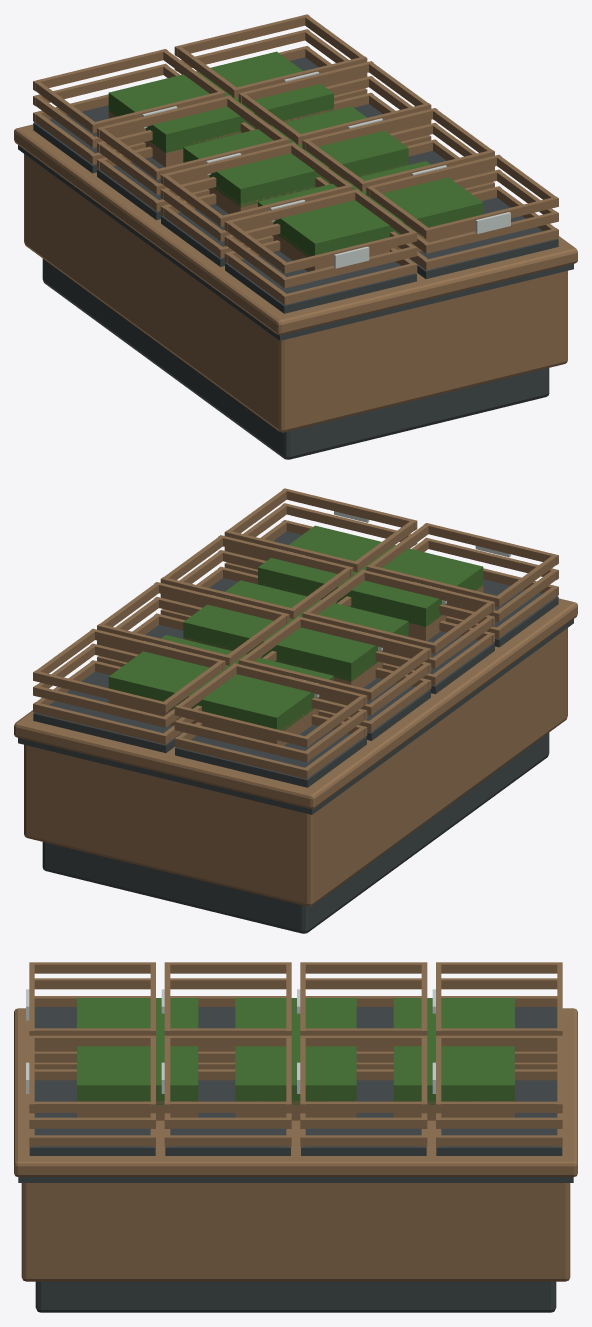
Rendered from vegetables-l0.glb.
3 views of the same model, one above another, from view 1: azimuth 30°, elevation 25°; view 2: azimuth 150°, elevation 25°; view 3: azimuth 270°, elevation 25° (orthographic). The views are drawn at different scales.
Visible parts, largest first — view 1: vegetables-l0_fixture_Oiled warm oak, vegetables-l0_fixture_Powder-coated graphite, vegetables-l0_fixture_Leaf green.001, vegetables-l0_fixture_Oiled warm oak.001, vegetables-l0_fixture_Refrigerator enamel; view 2: vegetables-l0_fixture_Oiled warm oak, vegetables-l0_fixture_Powder-coated graphite, vegetables-l0_fixture_Leaf green.001, vegetables-l0_fixture_Oiled warm oak.001; view 3: vegetables-l0_fixture_Oiled warm oak, vegetables-l0_fixture_Powder-coated graphite, vegetables-l0_fixture_Leaf green.001, vegetables-l0_fixture_Oiled warm oak.001, vegetables-l0_fixture_Refrigerator enamel.
Part boxes in pixels (box(x1,y1,x2,y2)): vegetables-l0_fixture_Oiled warm oak: box(14, 14, 577, 432); vegetables-l0_fixture_Powder-coated graphite: box(18, 57, 573, 459); vegetables-l0_fixture_Leaf green.001: box(108, 51, 483, 256); vegetables-l0_fixture_Oiled warm oak.001: box(108, 108, 475, 271); vegetables-l0_fixture_Refrigerator enamel: box(142, 71, 510, 268); vegetables-l0_fixture_Oiled warm oak: box(14, 488, 577, 906); vegetables-l0_fixture_Powder-coated graphite: box(18, 531, 573, 933); vegetables-l0_fixture_Leaf green.001: box(108, 525, 483, 730); vegetables-l0_fixture_Oiled warm oak.001: box(108, 584, 483, 745); vegetables-l0_fixture_Oiled warm oak: box(14, 962, 577, 1281); vegetables-l0_fixture_Powder-coated graphite: box(18, 1007, 573, 1312); vegetables-l0_fixture_Leaf green.001: box(77, 998, 514, 1104); vegetables-l0_fixture_Oiled warm oak.001: box(77, 1101, 514, 1120); vegetables-l0_fixture_Refrigerator enamel: box(26, 989, 435, 1093).
Bounding box in the file's own units: 1.7 × 1.08 × 2.6.
